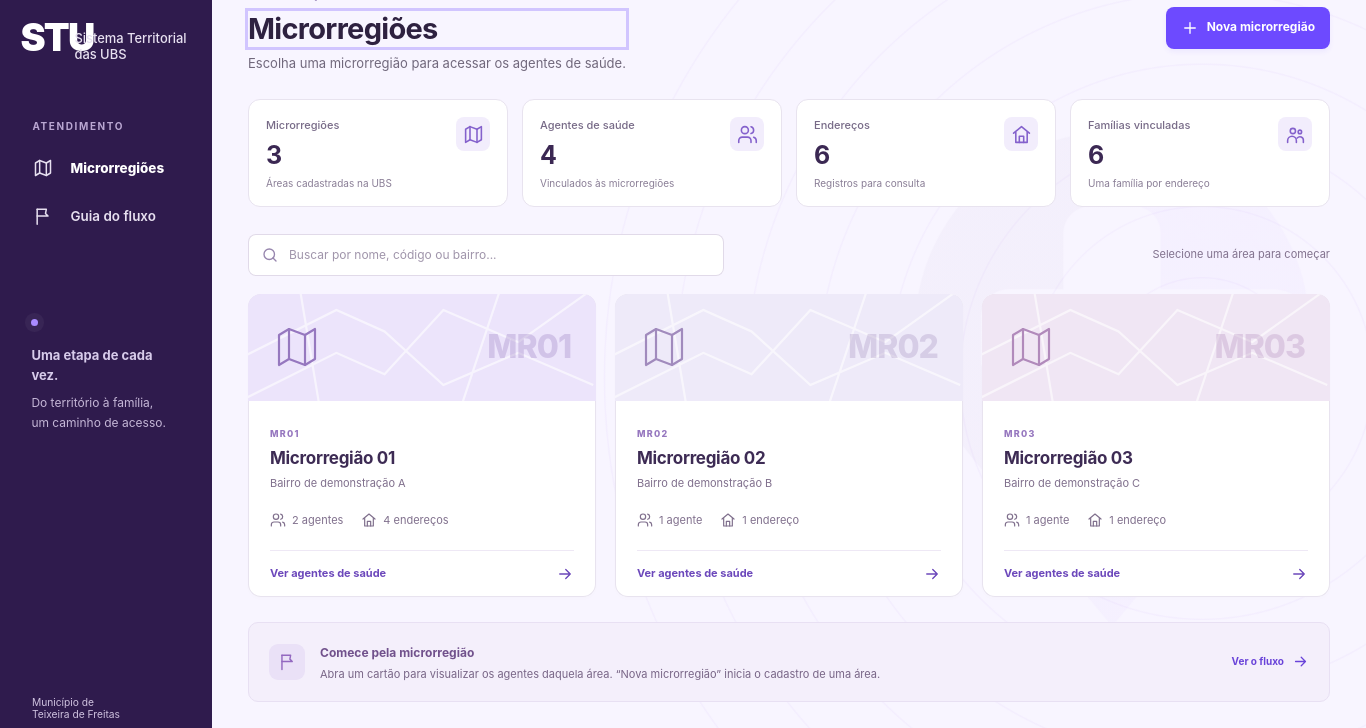
Test case: Prévia da hierarquia de cadastro › percorre microrregião, agente, endereço e família sem consultar APIs
(page scrolled)
Expected: the heading "Microrregiões" is shown, [248,10,626,47]
Click the button with aria-label "Abrir Microrregião 01": (422, 347) [248,294,596,597]
(page scrolled)
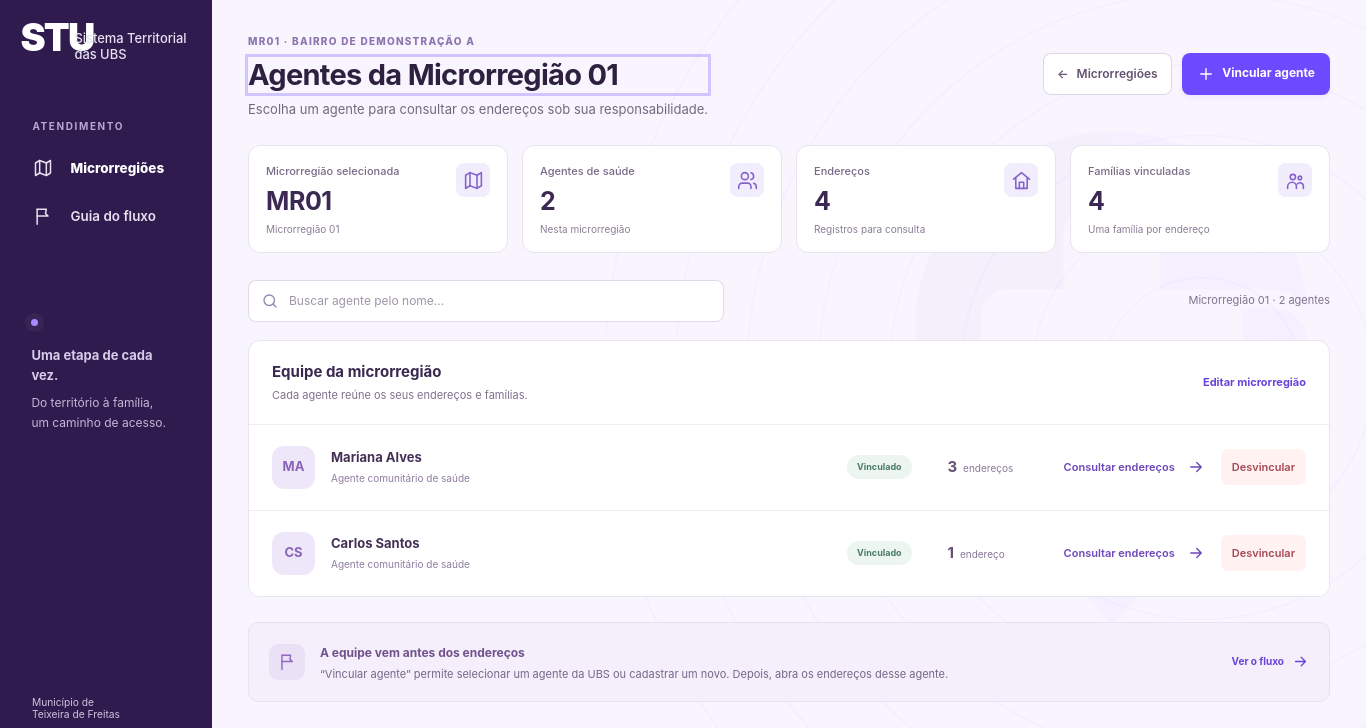
Click the button with aria-label "Consultar endereços de Mariana Alves": (294, 467) [272,446,1205,488]
(page scrolled)
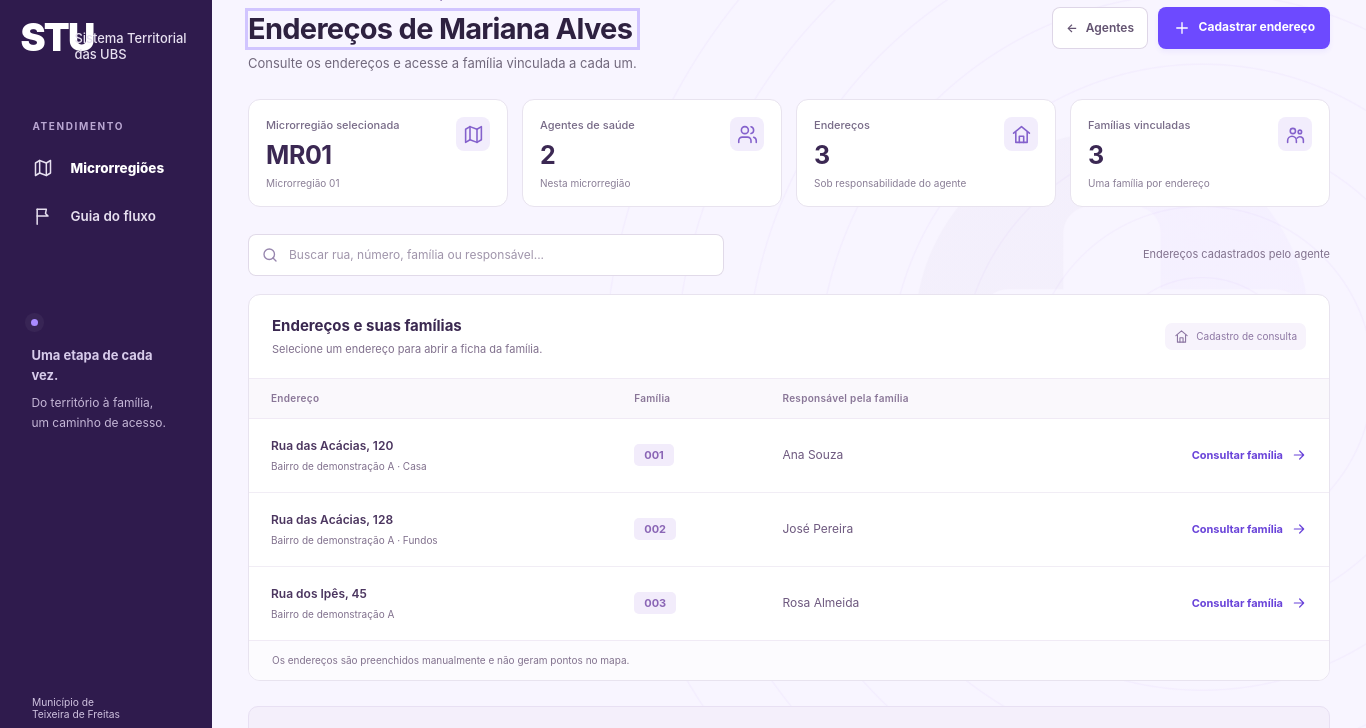
Expected: the text "Rua das Acácias, 120" is shown, [271,438,393,452]
Click the button with aria-label "Consultar família 001": (1249, 455) [1192,437,1307,473]
(page scrolled)
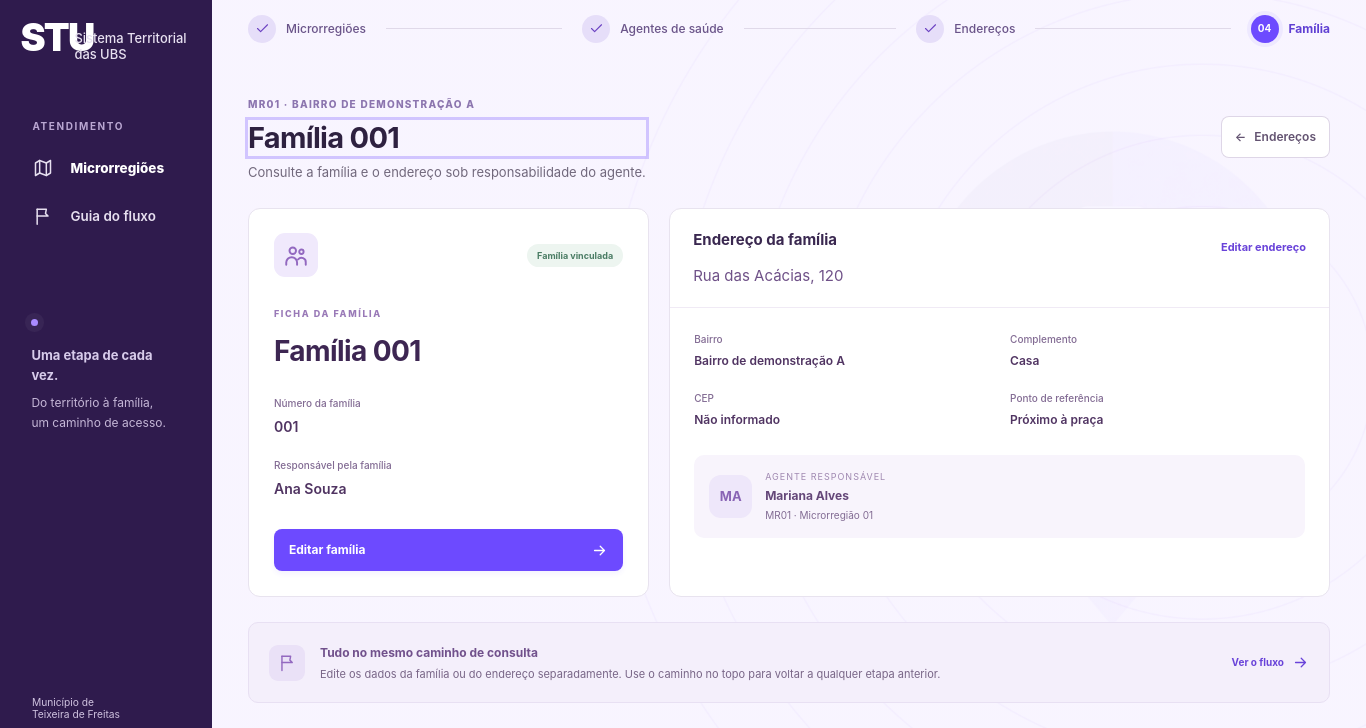
Expected: the text "Ana Souza" is shown, [274,480,346,497]
Expected: the heading "Família 001" below "MR01 · Bairro de demonstração A" is shown, [248,120,646,156]
Click the button "← Endereços": (1275, 137) [1221,116,1330,158]
(page scrolled)
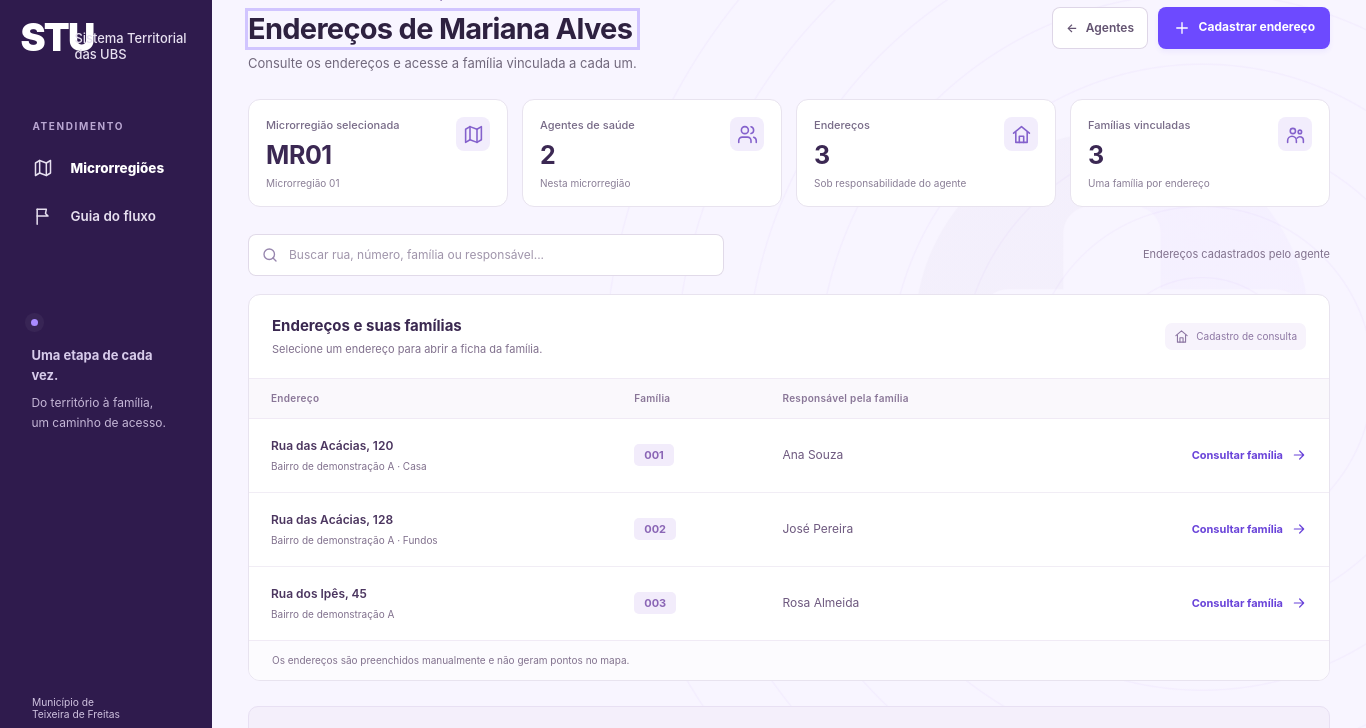
Expected: the heading "Endereços de Mariana Alves" is shown, [248,10,637,47]
